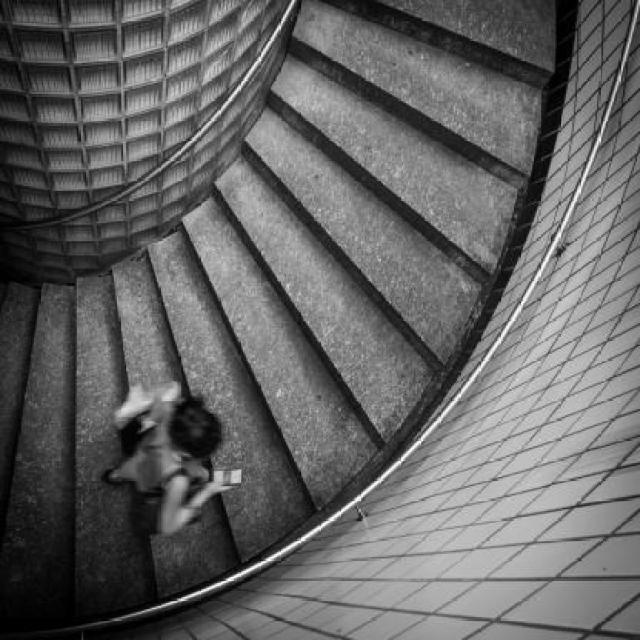stair: (0, 0, 558, 621)
